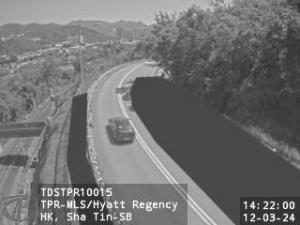vehicle: (106, 116, 136, 144)
